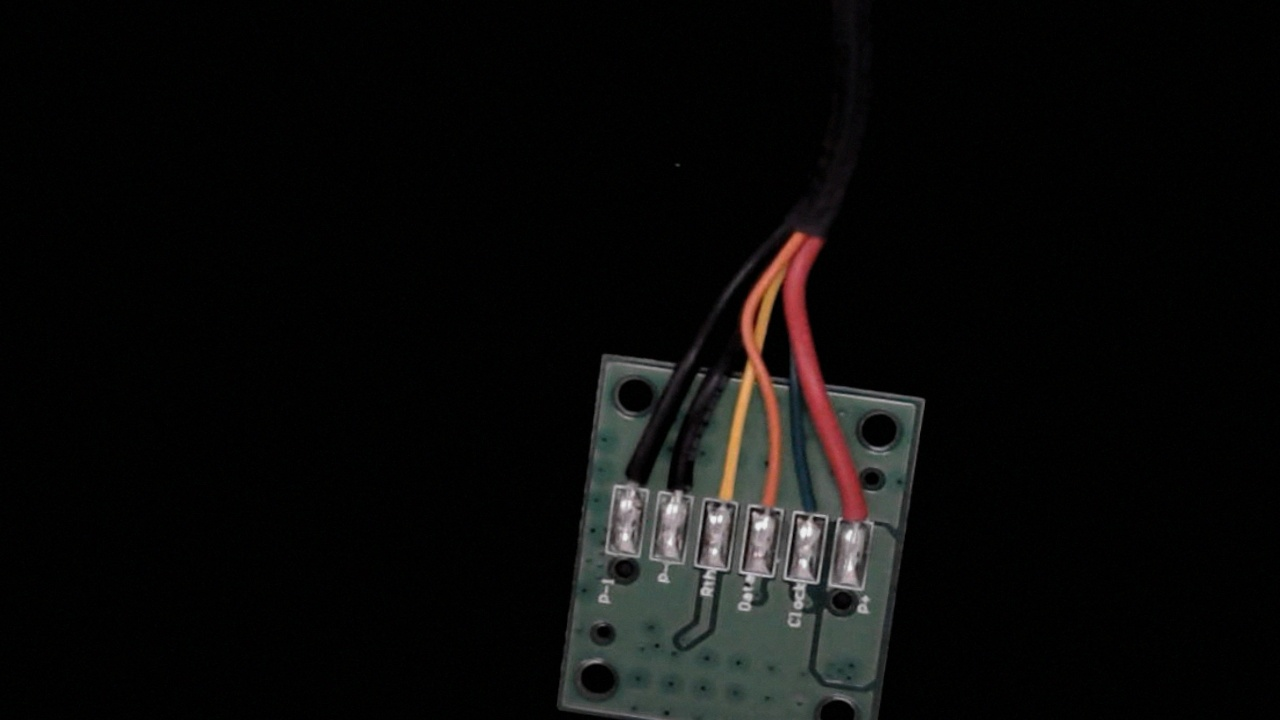Black: (658, 440, 702, 515)
Black1: (613, 432, 657, 506)
Green: (789, 464, 837, 541)
Orange: (746, 453, 791, 529)
Red: (836, 471, 881, 546)
Yellow: (704, 443, 746, 523)
